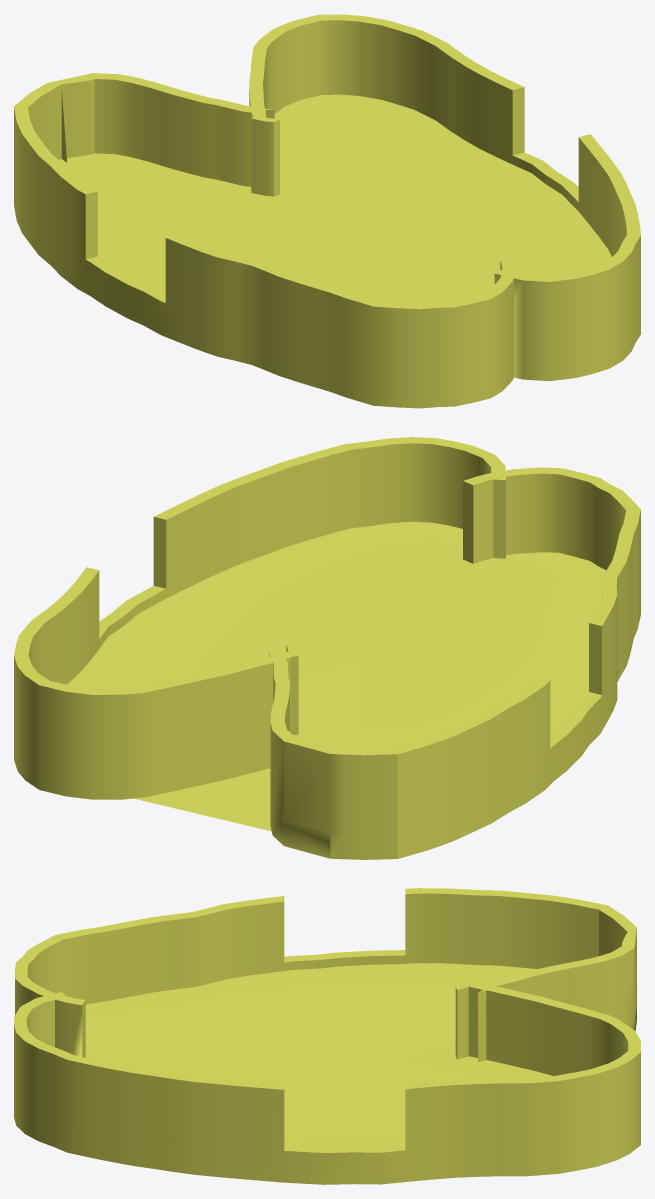
Rendered from Organ_Thymus_Rectangular_Cuts.fbx.
3 renders of one model, top to bottom at view 1: azimuth 30°, elevation 25°; view 2: azimuth 150°, elevation 25°; view 3: azimuth 270°, elevation 25°, orthographic. The views are drawn at different scales.
Visible parts, largest first — view 1: _12_04_Extruded_Color_Thymus_No_Cuts:polySurface2; view 2: _12_04_Extruded_Color_Thymus_No_Cuts:polySurface2; view 3: _12_04_Extruded_Color_Thymus_No_Cuts:polySurface2.
Part boxes in pixels (<box>): _12_04_Extruded_Color_Thymus_No_Cuts:polySurface2: <box>14,14,640,408</box>; _12_04_Extruded_Color_Thymus_No_Cuts:polySurface2: <box>14,437,640,859</box>; _12_04_Extruded_Color_Thymus_No_Cuts:polySurface2: <box>14,888,640,1184</box>.
Size of the model in its own units: 4.1 by 0.8709 by 5.33.
